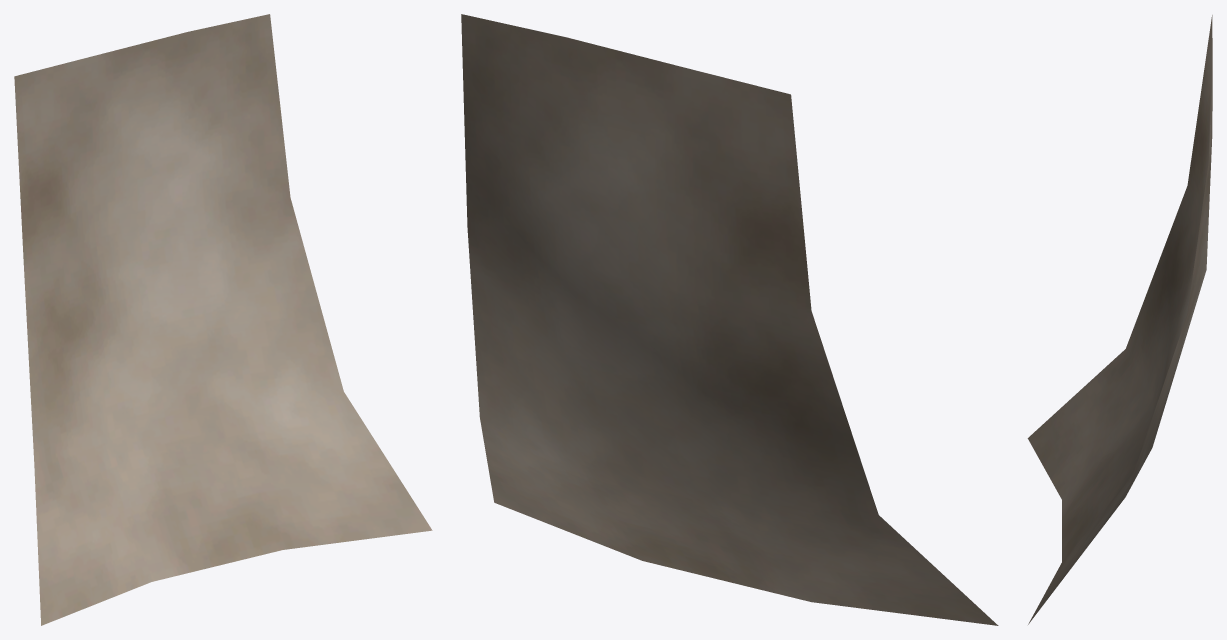
File: web_02.fbx
The picture shows the model from 3 angles, left to right: view 1: azimuth 30°, elevation 25°; view 2: azimuth 150°, elevation 25°; view 3: azimuth 270°, elevation 25°; orthographic projection. The views are drawn at different scales.
Visible parts, largest first — view 1: web_02_mat; view 2: web_02_mat; view 3: web_02_mat.
Boxes of the visible parts, x1=… form: web_02_mat: x1=14, y1=14, x2=432, y2=625; web_02_mat: x1=461, y1=14, x2=998, y2=625; web_02_mat: x1=1027, y1=15, x2=1212, y2=624.
Bounding box in the file's own units: 3.87 × 4.4 × 1.61.
